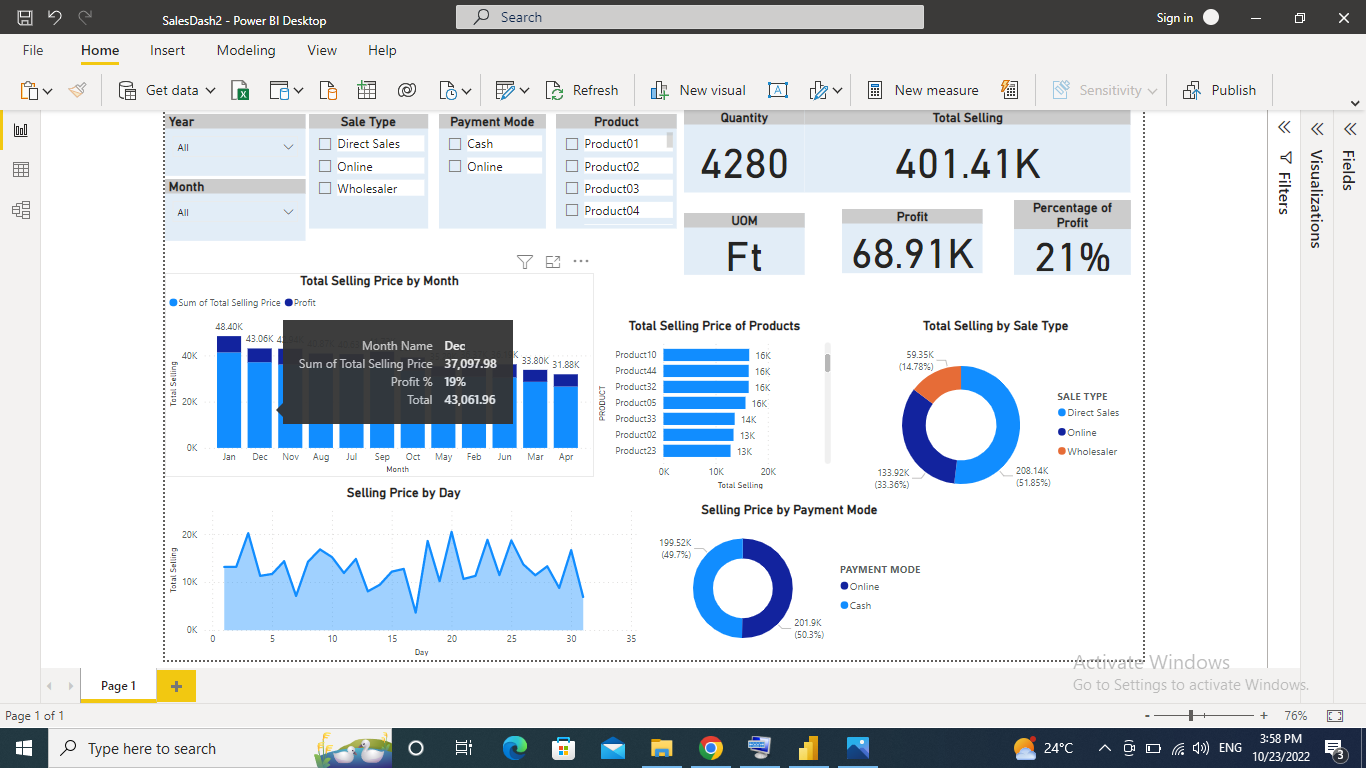

What the dashboard file says about the page in this screenshot:
{"tool":"powerbi","page":{"name":"Page 1","canvas":[1280,720],"ordinal":0},"visuals":[{"type":"slicer","title":"Month","fields":{"Values":["InputData.Month Name"]},"box":[0,90.7,184.3,80.6],"z":1000},{"type":"slicer","title":"Sale Type","fields":{"Values":["InputData.SALE TYPE"]},"box":[188.6,5.8,155.5,149.8],"z":2000},{"type":"slicer","title":"Payment Mode","fields":{"Values":["InputData.PAYMENT MODE"]},"box":[358.6,5.8,139.7,149.8],"z":3000},{"type":"card","title":"Total Selling","fields":{"Values":["Sum(InputData.Total Selling Price)"]},"box":[838.1,0,426.2,108],"z":4000},{"type":"slicer","title":"Product ","fields":{"Values":["InputData.PRODUCT"]},"box":[511.2,5.8,158.4,149.8],"z":5000},{"type":"card","title":"Profit","fields":{"Values":["InputData.Profit"]},"box":[885.6,129.6,184.3,83.5],"z":6000},{"type":"card","title":"Percentage of Profit","fields":{"Values":["InputData.Progit %"]},"box":[1111.4,117.8,153.2,98.2],"z":7000},{"type":"card","title":"Quantity","fields":{"Values":["Sum(InputData.QUANTITY)"]},"box":[679.7,0,158.4,108],"z":8000},{"type":"card","title":"UOM","fields":{"Values":["Min(InputData.UOM)"]},"box":[679.7,135.4,158.4,80.6],"z":9000},{"type":"columnChart","title":"Total Selling Price by Month ","fields":{"Y":["Sum(InputData.Total Selling Price)","InputData.Profit"],"Category":["InputData.Month Name"]},"box":[0,213.1,561.6,267.8],"z":10000},{"type":"donutChart","title":"Total Selling by Sale Type","fields":{"Series":["InputData.SALE TYPE"],"Y":["Sum(InputData.Total Selling Price)"]},"box":[911.5,272.2,352.8,260.6],"z":11000},{"type":"clusteredBarChart","title":"Total Selling Price of Products","fields":{"Category":["InputData.PRODUCT"],"Y":["Sum(InputData.Total Selling Price)"]},"box":[561.6,272.2,315.4,229],"z":12000},{"type":"areaChart","title":"Selling Price by Day","fields":{"Y":["Sum(InputData.Total Selling Price)"],"Category":["InputData.Day"]},"box":[0,491,625,229],"z":13000},{"type":"donutChart","title":"Selling Price by Payment Mode","fields":{"Category":["InputData.PAYMENT MODE"],"Y":["Sum(InputData.Total Selling Price)"]},"box":[625,512.6,385.9,207.4],"z":14000},{"type":"slicer","title":"Year","fields":{"Values":["InputData.Year"]},"box":[0,5.8,184.3,80.6],"z":14001}]}

Visuals, with their boxes on the page's 1280x720 design canvas (x1, y1, x2, y2). These are canvas units, not pixel positions in the 1366x768 screenshot, which may show the page scaled, cropped or inside an application window:
"Month" slicer: [0,91,184,171]
"Sale Type" slicer: [189,6,344,156]
"Payment Mode" slicer: [359,6,498,156]
"Total Selling" card: [838,0,1264,108]
"Product " slicer: [511,6,670,156]
"Profit" card: [886,130,1070,213]
"Percentage of Profit" card: [1111,118,1265,216]
"Quantity" card: [680,0,838,108]
"UOM" card: [680,135,838,216]
"Total Selling Price by Month " columnChart: [0,213,562,481]
"Total Selling by Sale Type" donutChart: [912,272,1264,533]
"Total Selling Price of Products" clusteredBarChart: [562,272,877,501]
"Selling Price by Day" areaChart: [0,491,625,720]
"Selling Price by Payment Mode" donutChart: [625,513,1011,720]
"Year" slicer: [0,6,184,86]
